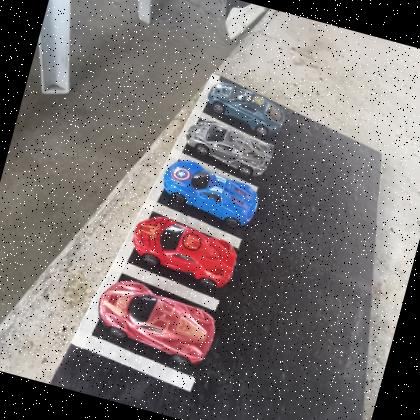Car: (90, 274, 224, 372), (124, 209, 244, 292), (156, 155, 263, 230), (180, 114, 278, 181), (202, 78, 290, 137)
